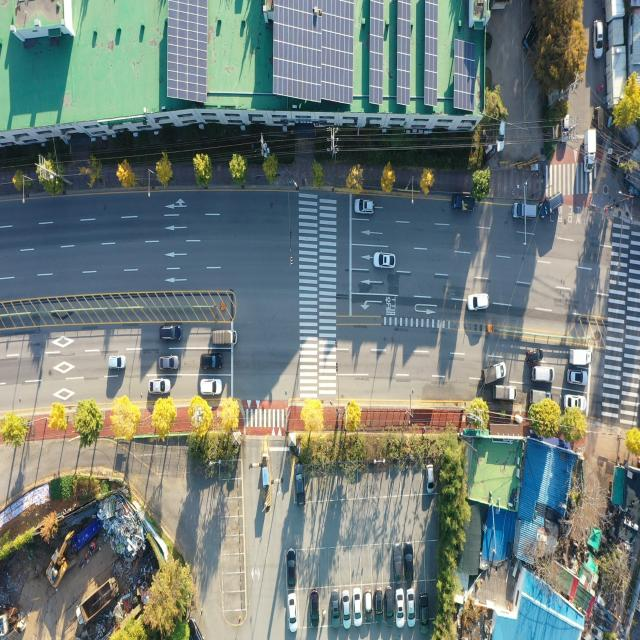car: (538, 192, 563, 220), (294, 464, 306, 506), (512, 202, 537, 220), (526, 342, 543, 368), (419, 592, 430, 632), (564, 392, 586, 412), (310, 590, 320, 630), (393, 544, 403, 584), (466, 292, 488, 310), (594, 20, 604, 58), (496, 118, 506, 156), (404, 540, 413, 582), (201, 379, 222, 396), (531, 365, 553, 381), (288, 594, 297, 632), (287, 550, 296, 588), (374, 590, 384, 624), (376, 252, 397, 268), (160, 326, 182, 341), (353, 590, 362, 626), (203, 353, 222, 370), (330, 593, 339, 628), (395, 588, 403, 626), (386, 587, 394, 625), (408, 589, 416, 626), (355, 200, 374, 215), (569, 369, 588, 384), (343, 593, 351, 627), (363, 590, 372, 620), (160, 356, 179, 370), (152, 380, 171, 394), (427, 464, 435, 494), (108, 355, 125, 369), (562, 116, 570, 144)
small_truck: (522, 11, 546, 55), (482, 360, 508, 387), (584, 128, 596, 175), (212, 328, 238, 348), (494, 383, 517, 404), (570, 345, 592, 366), (450, 195, 475, 212), (530, 390, 552, 407)
